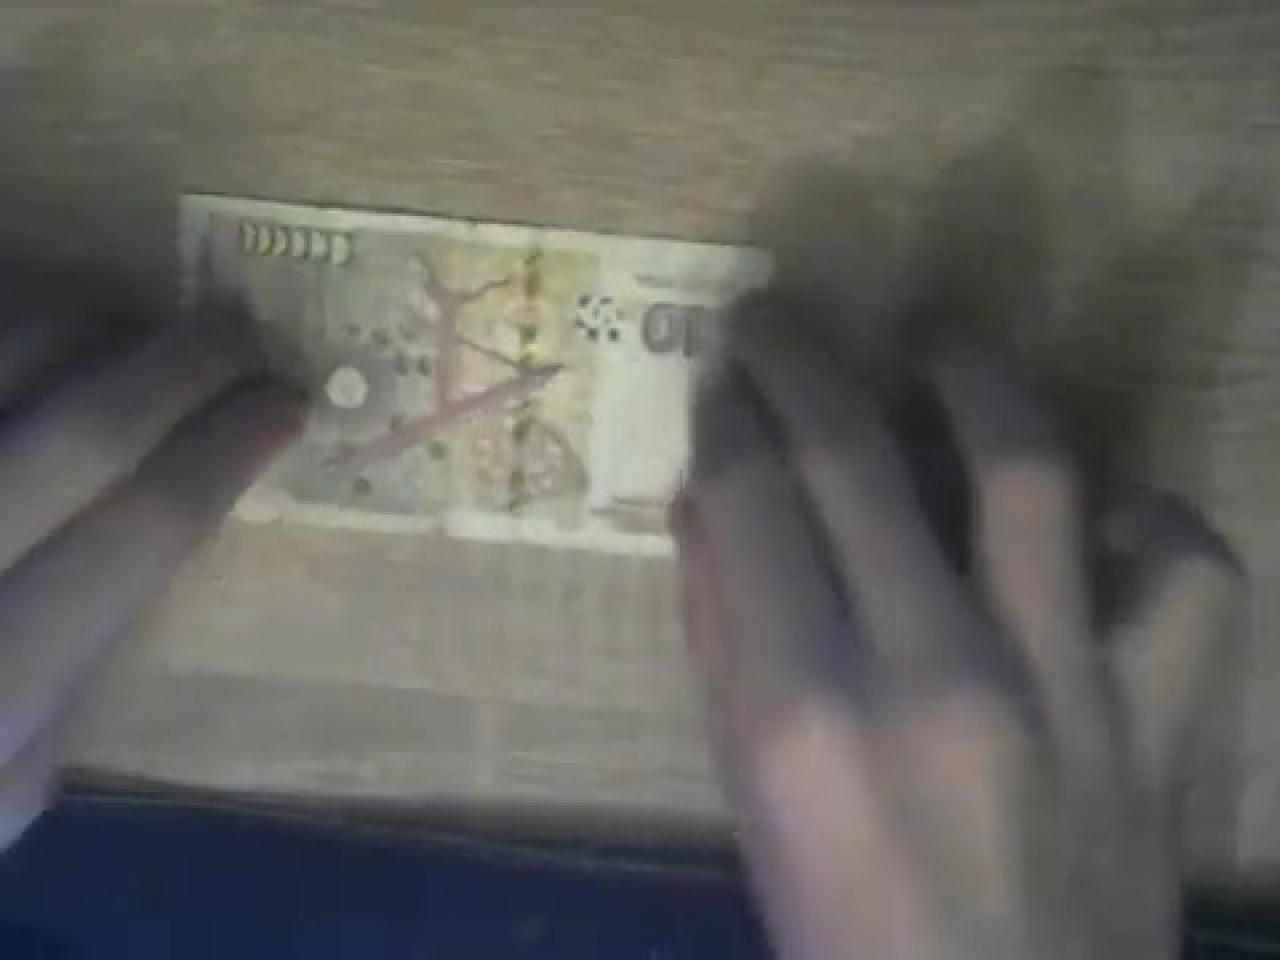10leva: (186, 195, 768, 560)
